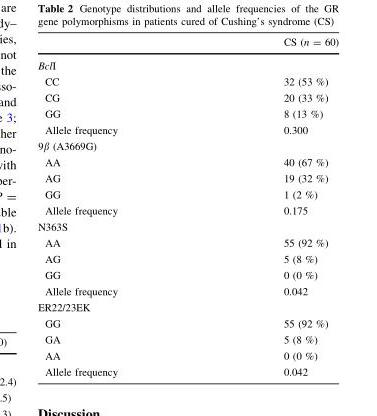table: (37, 36, 338, 377)
table column: (37, 36, 199, 377), (199, 36, 338, 377)
table column header: (37, 36, 338, 53)
table projected row header: (37, 53, 338, 73), (37, 137, 338, 154), (37, 218, 338, 234), (37, 299, 338, 315)
table row: (37, 53, 338, 73), (37, 36, 338, 53), (37, 105, 338, 122), (37, 137, 338, 154), (37, 234, 338, 251), (37, 73, 338, 89), (37, 89, 338, 105), (37, 154, 338, 170), (37, 170, 338, 186), (37, 186, 338, 202), (37, 202, 338, 218), (37, 218, 338, 234), (37, 251, 338, 267), (37, 267, 338, 283), (37, 283, 338, 299), (37, 299, 338, 315), (37, 315, 338, 331), (37, 331, 338, 347), (37, 347, 338, 363), (37, 122, 338, 137), (37, 363, 338, 377)
